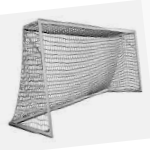goals: (7, 15, 143, 138)
